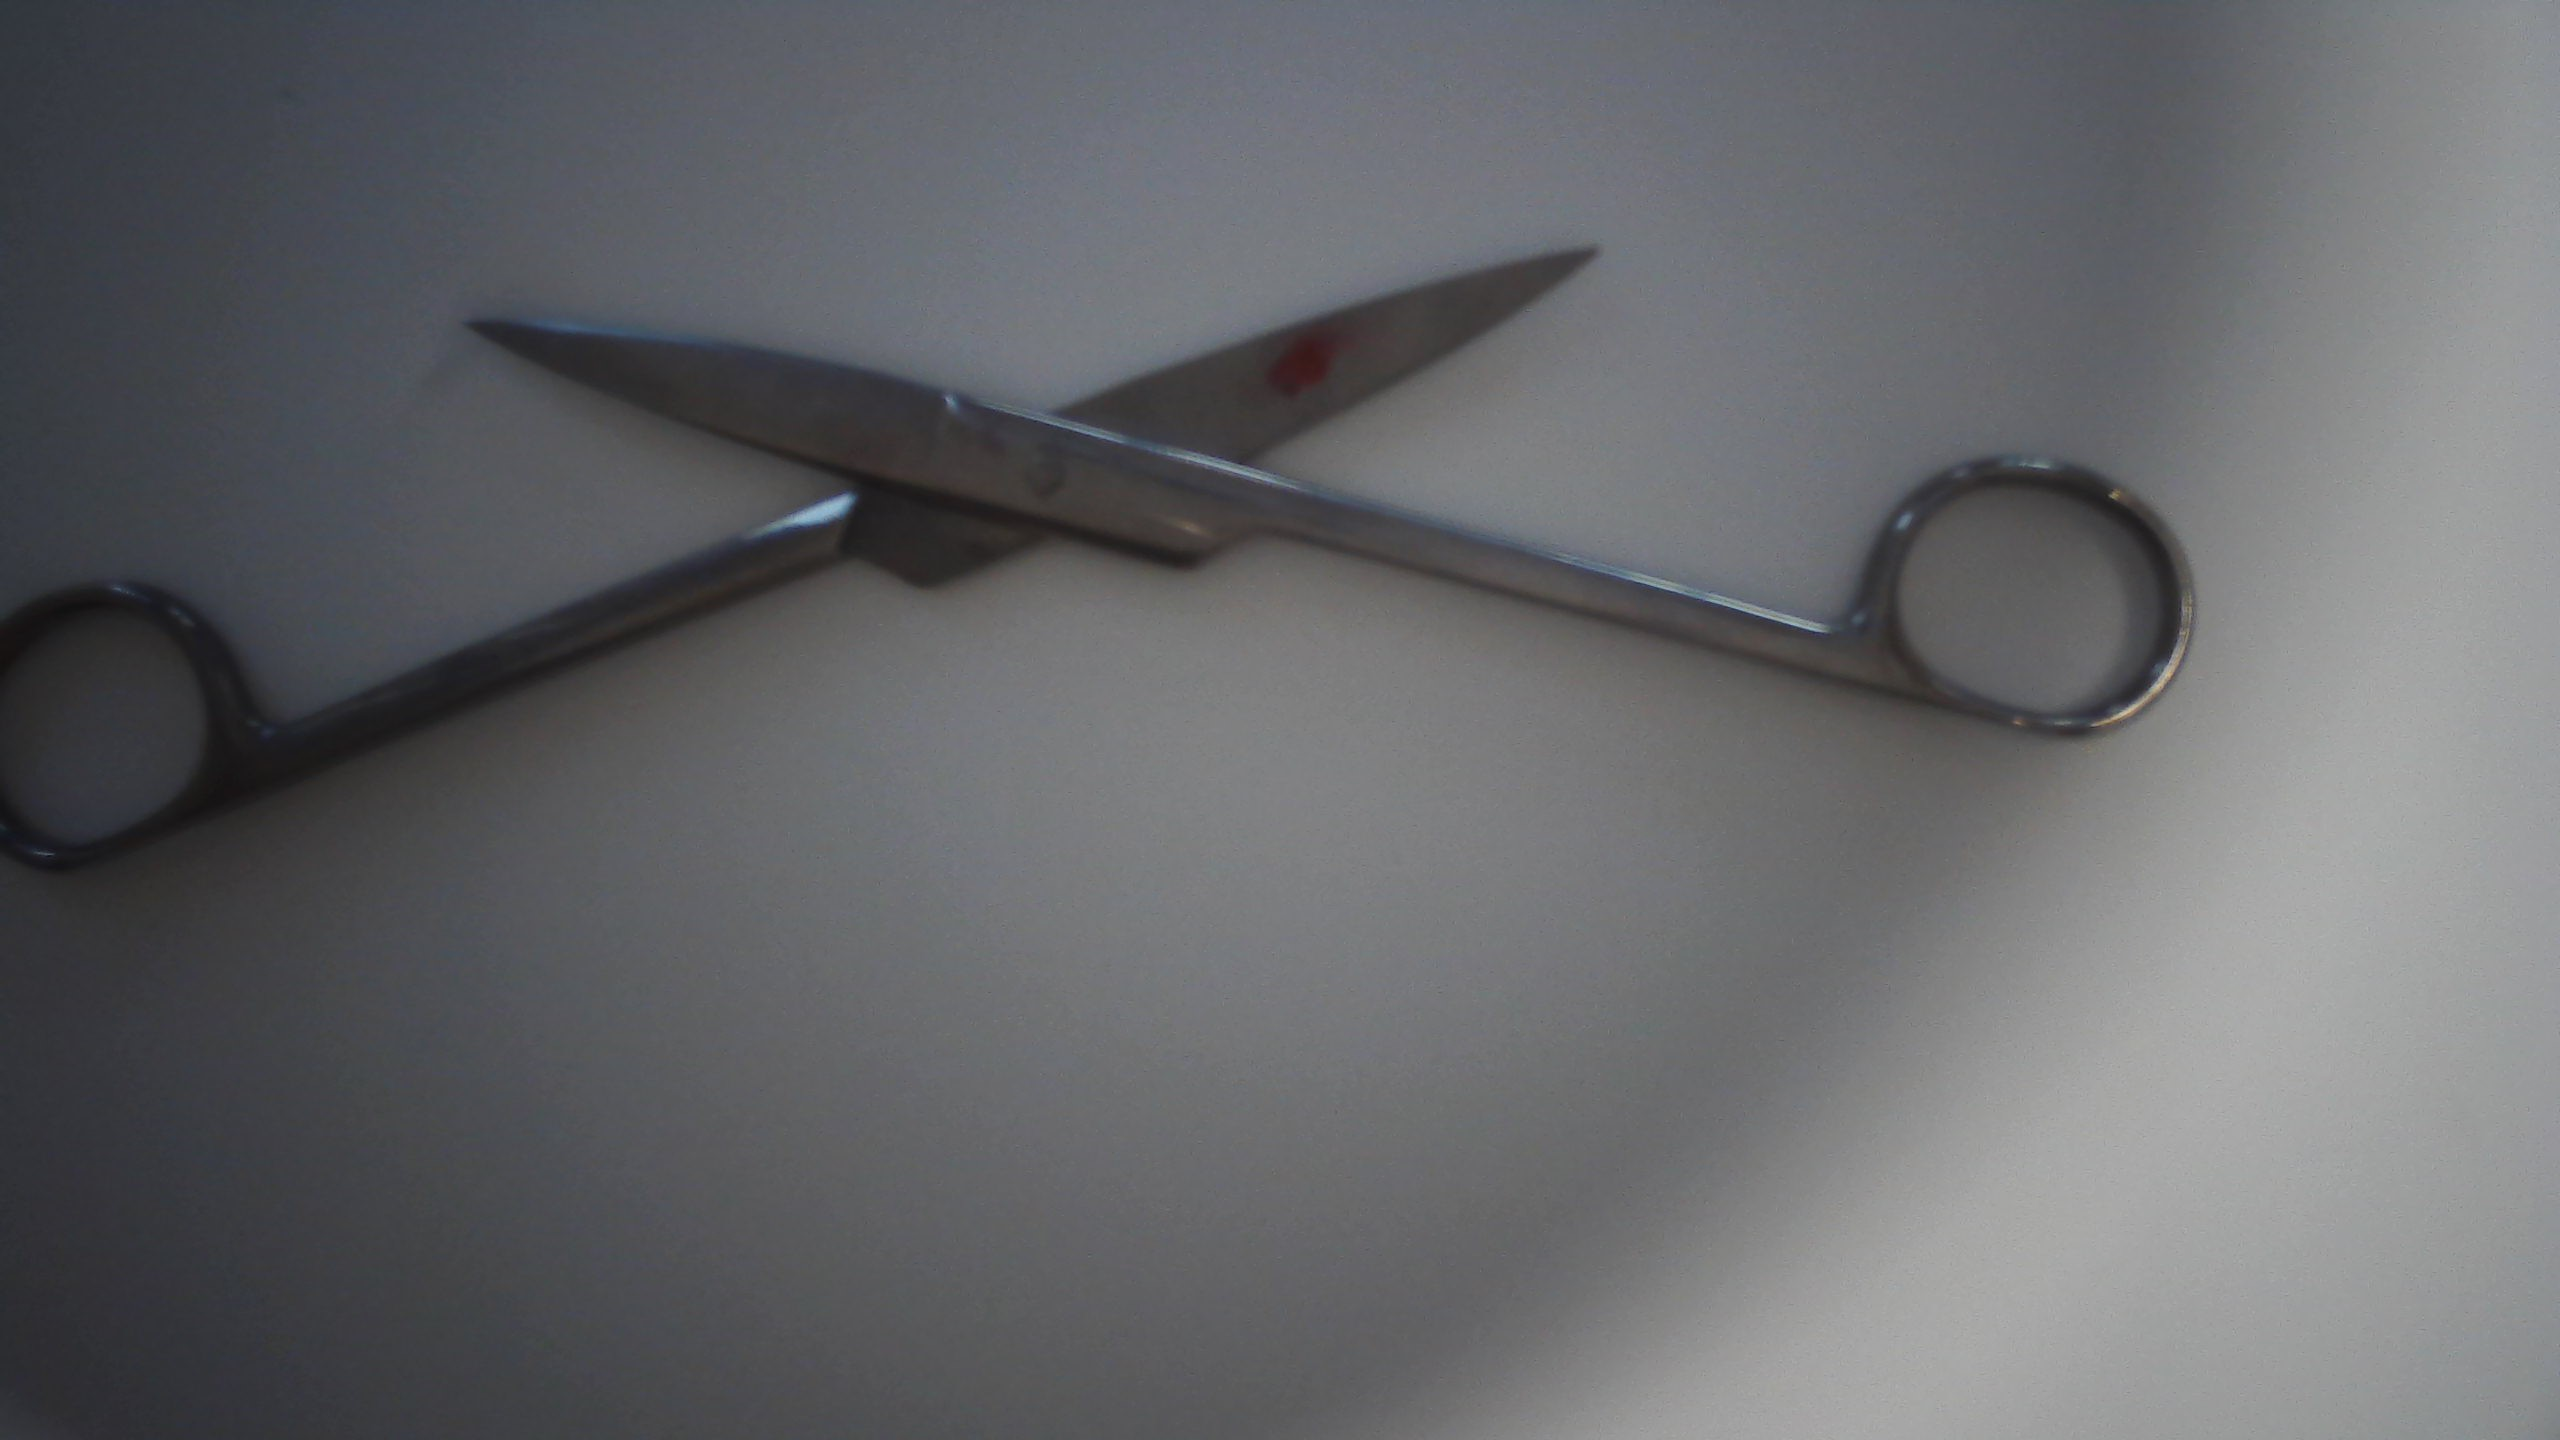Stain: (1245, 325, 1356, 404)
